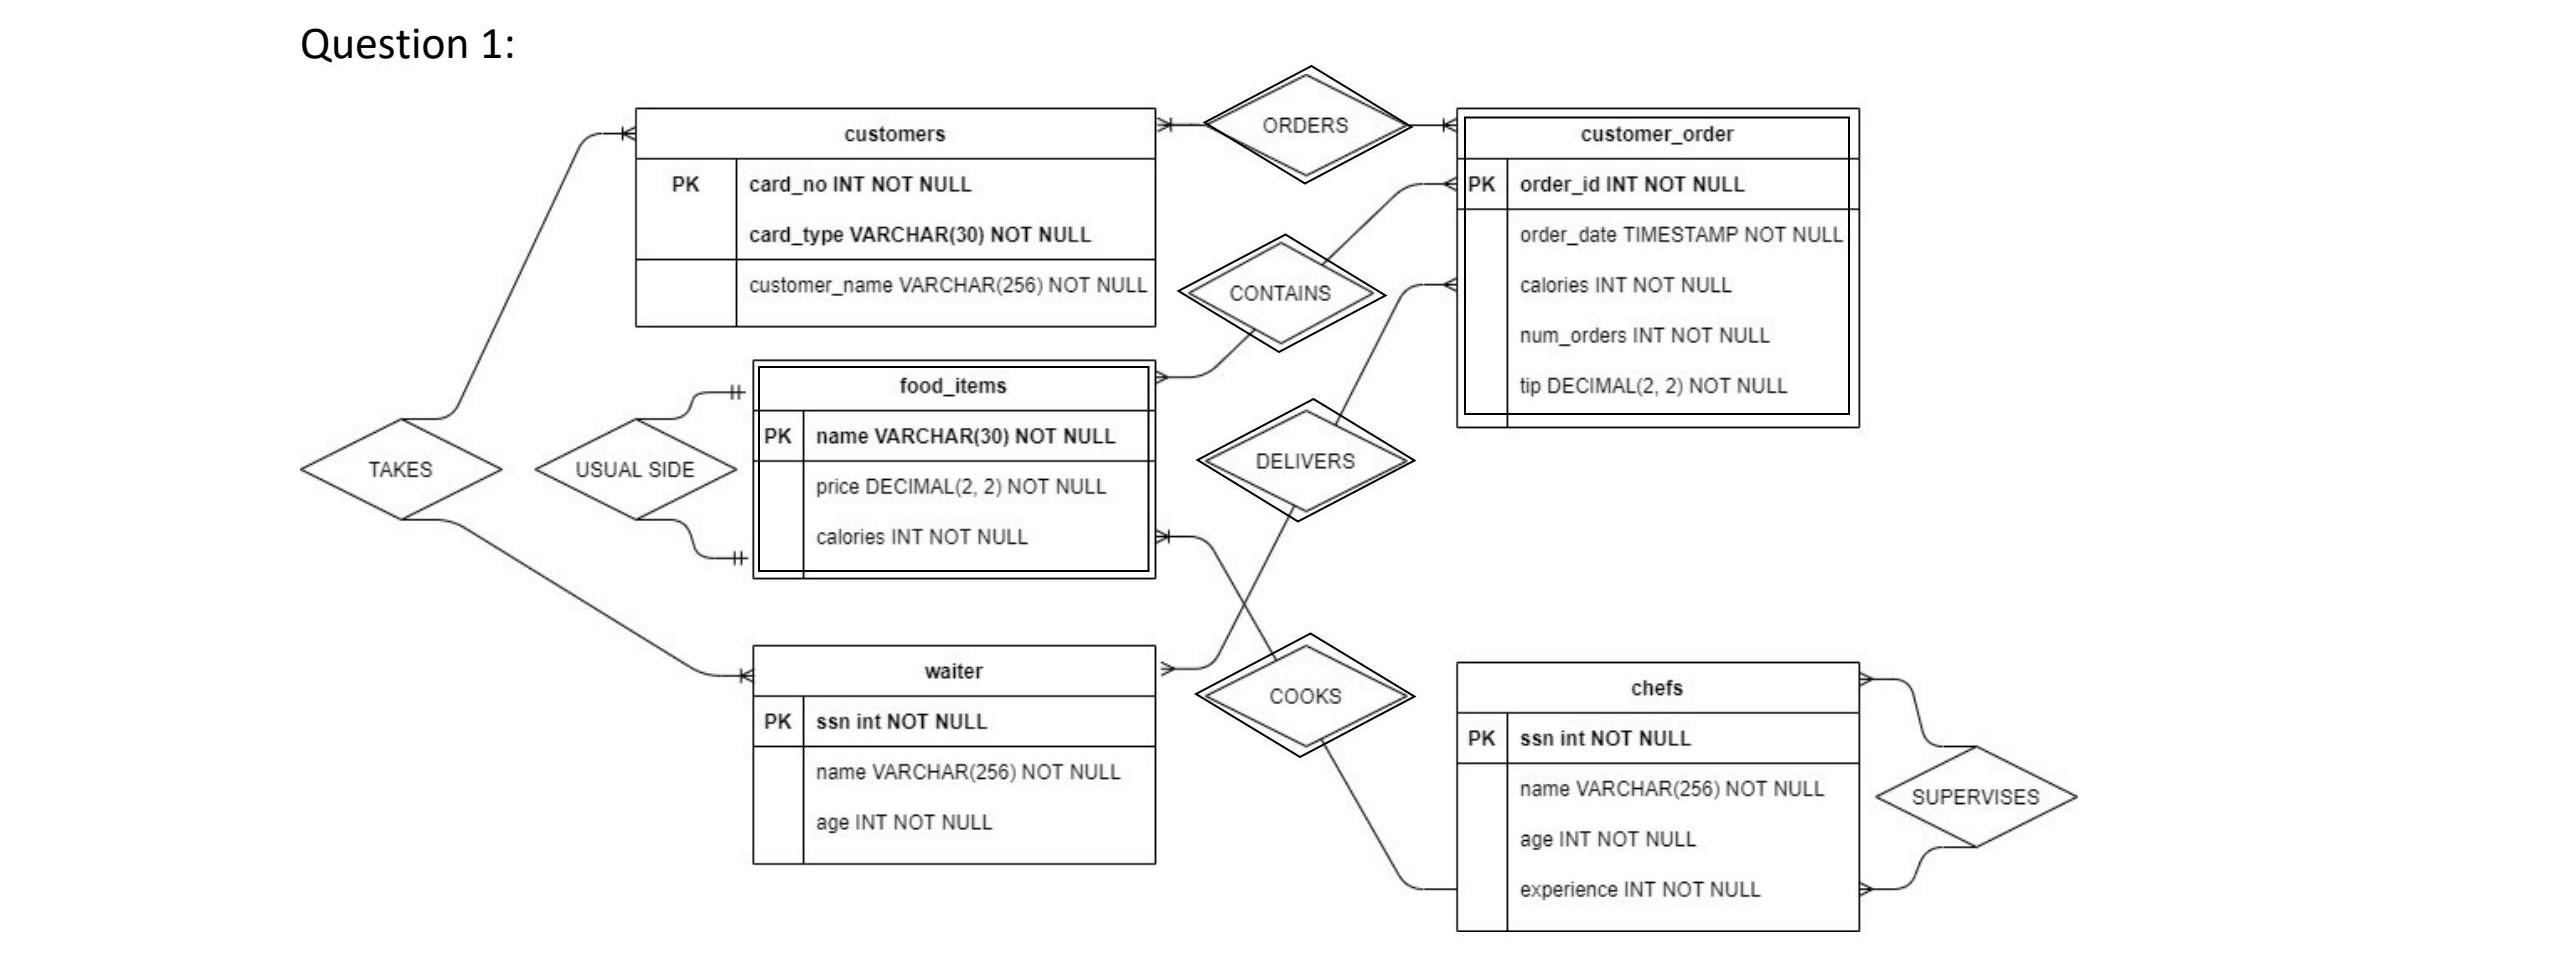Entity: (632, 104, 1161, 330), (1452, 660, 1865, 934), (748, 640, 1162, 873), (758, 364, 1153, 577)
Relationship: (1193, 630, 1421, 759), (1193, 396, 1418, 523), (1179, 236, 1387, 353), (1208, 67, 1413, 182), (535, 418, 740, 522), (297, 419, 506, 520), (1878, 747, 2082, 847)
